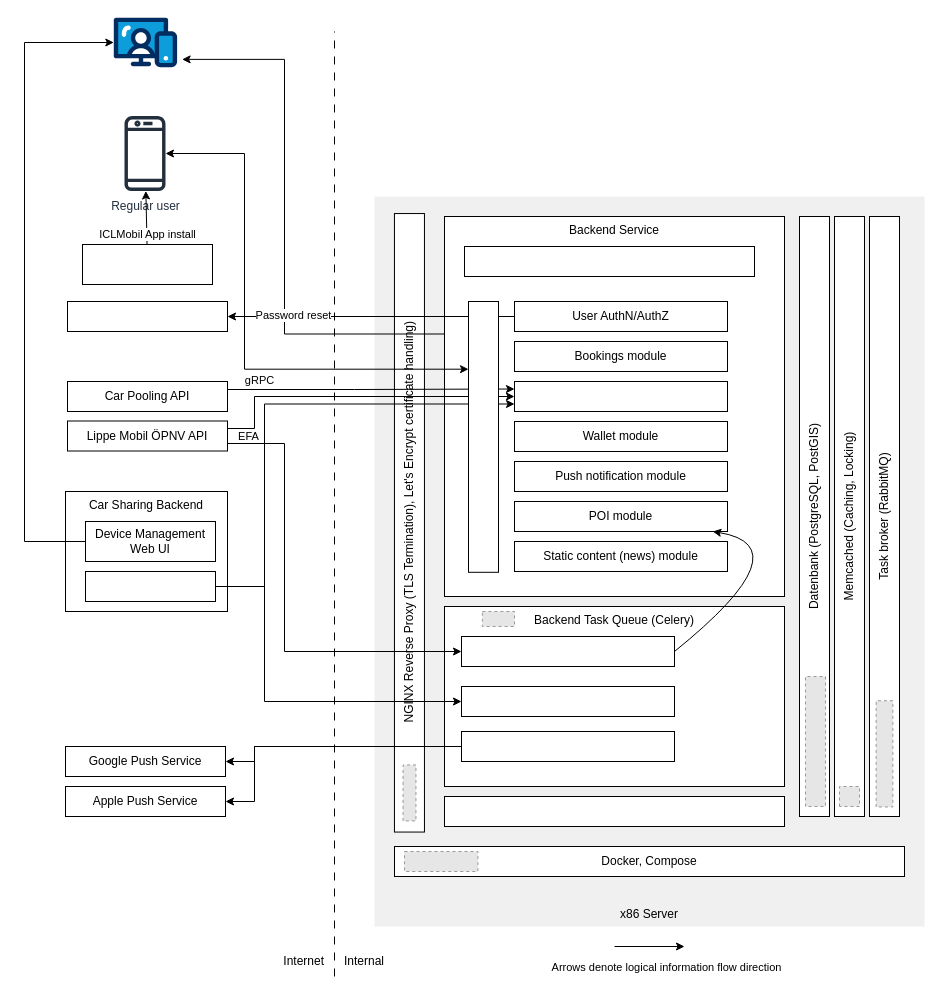
Some shapes in this 942 by 995 pixel diagram are drawn without their labels. Grey dashed boxes stand in for pictures. The centre of each missing label's shape, as x and y in pixels:
Administrative User: pixel 145 42
API: pixel 150 586
API (/api/v1/): pixel 483 436
Car Sharing Synchronization: pixel 567 701
Documentation: pixel 614 811
E-Mail Service (Brevo): pixel 147 316
Google Play Store / Apple App Store: pixel 147 264
Low-level administration Web UI (/admin-backend): pixel 609 261
Public Transport stop importer: pixel 567 651
Push notification sender: pixel 567 746
Trip module: pixel 621 396
